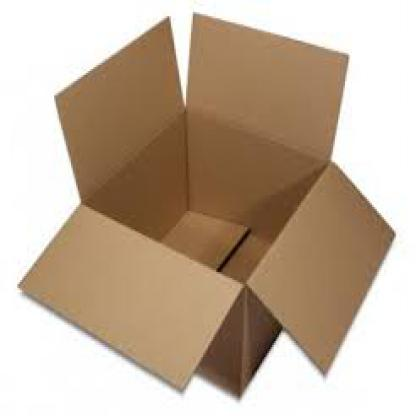CARDBOARD: (14, 6, 394, 398)
